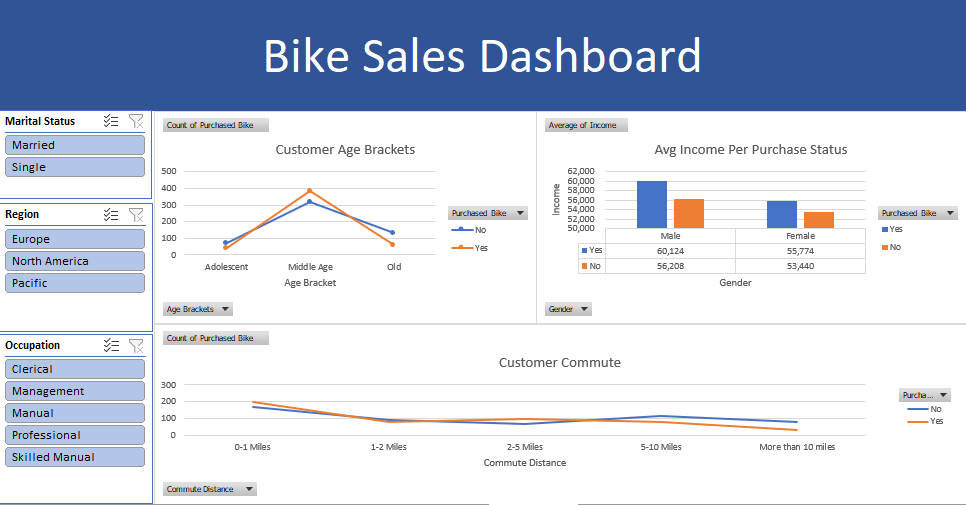

The dashboard page shown, as its layout file describes it:
{"tool":"powerbi","page":{"name":"Main","canvas":[1280,720],"ordinal":0},"visuals":[{"type":"clusteredColumnChart","title":"Avg Income by Gender and Purchase Status","fields":{"Category":["bike_buyers.Gender"],"Y":["bike_buyers.Avg Income"],"Series":["bike_buyers.Purchased Bike"]},"box":[253.3,50,490,293.3],"z":0},{"type":"clusteredBarChart","title":"Purchased Status by Age Brackets","fields":{"Category":["bike_buyers.Age Brackets"],"Series":["bike_buyers.Purchased Bike"],"Y":["bike_buyers.Customer Count"]},"box":[766.7,50,500,293.3],"z":1000},{"type":"slicer","fields":{"Values":["bike_buyers.Age Brackets"]},"box":[1081.7,26.7,176.7,66.7],"z":2000},{"type":"clusteredBarChart","title":"Purchased Status by Commute Distance","fields":{"Category":["bike_buyers.Commute Distance"],"Y":["bike_buyers.Customer Count"],"Series":["bike_buyers.Purchased Bike"]},"box":[255.7,393.8,1002.1,298.3],"z":3000},{"type":"slicer","fields":{"Values":["bike_buyers.Martiel Status"]},"box":[20,32.9,190,130],"z":4000},{"type":"slicer","fields":{"Values":["bike_buyers.Region"]},"box":[20,207.1,190,164.3],"z":5000},{"type":"slicer","fields":{"Values":["bike_buyers.Occupation"]},"box":[20,427.1,190,257.1],"z":6000}]}

Visuals, with their boxes on the page's 1280x720 design canvas (x1, y1, x2, y2). These are canvas units, not pixel positions in the 966x505 screenshot, which may show the page scaled, cropped or inside an application window:
"Avg Income by Gender and Purchase Status" clusteredColumnChart: crop(253, 50, 743, 343)
"Purchased Status by Age Brackets" clusteredBarChart: crop(767, 50, 1267, 343)
slicer - bike_buyers.Age Brackets: crop(1082, 27, 1258, 93)
"Purchased Status by Commute Distance" clusteredBarChart: crop(256, 394, 1258, 692)
slicer - bike_buyers.Martiel Status: crop(20, 33, 210, 163)
slicer - bike_buyers.Region: crop(20, 207, 210, 371)
slicer - bike_buyers.Occupation: crop(20, 427, 210, 684)
